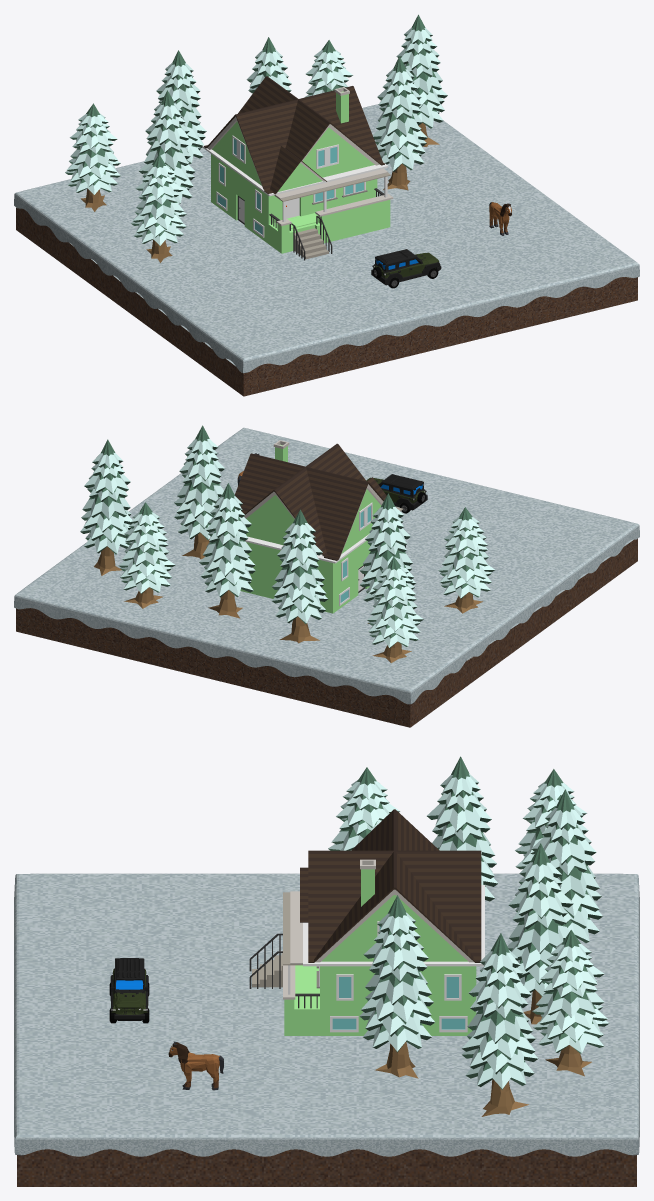
The picture shows the model from 3 angles, top to bottom: view 1: azimuth 30°, elevation 25°; view 2: azimuth 150°, elevation 25°; view 3: azimuth 270°, elevation 25°; orthographic projection. The views are drawn at different scales.
Visible parts, largest first — view 1: Cube.003, Cube.274, VEHICLES_JEEP, ANIMAL_CABALLO; view 2: Cube.003, Cube.274, VEHICLES_JEEP; view 3: Cube.003, Cube.274, VEHICLES_JEEP, ANIMAL_CABALLO.
Part boxes in pixels (x1=…): Cube.003: x1=14, y1=14, x2=639, y2=396; Cube.274: x1=202, y1=76, x2=393, y2=260; VEHICLES_JEEP: x1=371, y1=249, x2=441, y2=288; ANIMAL_CABALLO: x1=489, y1=202, x2=511, y2=235; Cube.003: x1=14, y1=425, x2=639, y2=727; Cube.274: x1=235, y1=440, x2=405, y2=613; VEHICLES_JEEP: x1=366, y1=474, x2=427, y2=513; Cube.003: x1=14, y1=756, x2=639, y2=1186; Cube.274: x1=249, y1=809, x2=484, y2=1035; VEHICLES_JEEP: x1=109, y1=958, x2=149, y2=1023; ANIMAL_CABALLO: x1=168, y1=1041, x2=223, y2=1090.
Bounding box in the file's own units: 4040 × 1692 × 4040.
31 materials, 3 textured.
